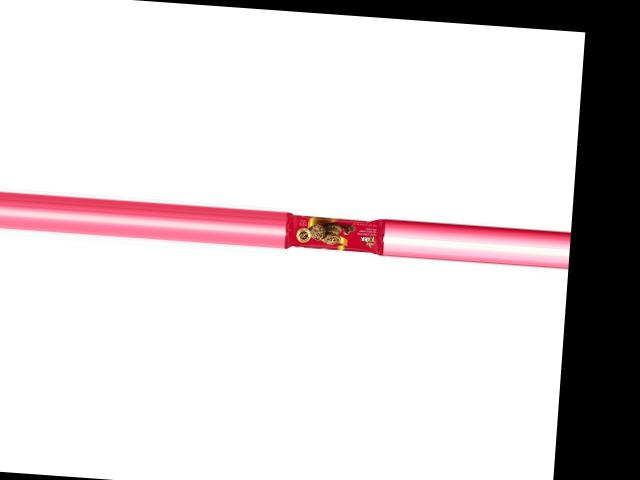chocolate: (286, 209, 386, 254)
